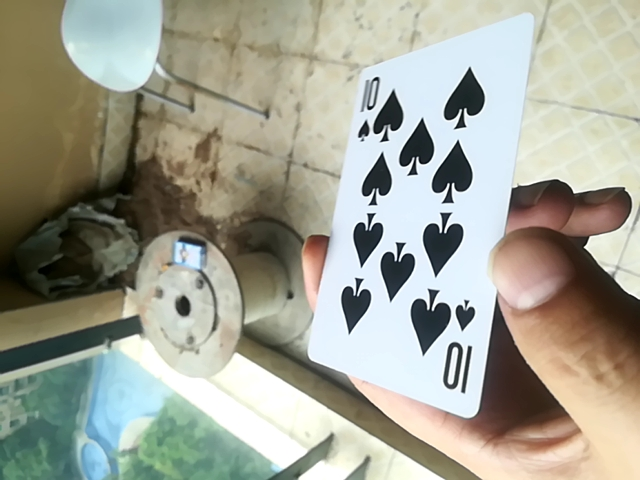ht 10: (309, 0, 527, 431)
